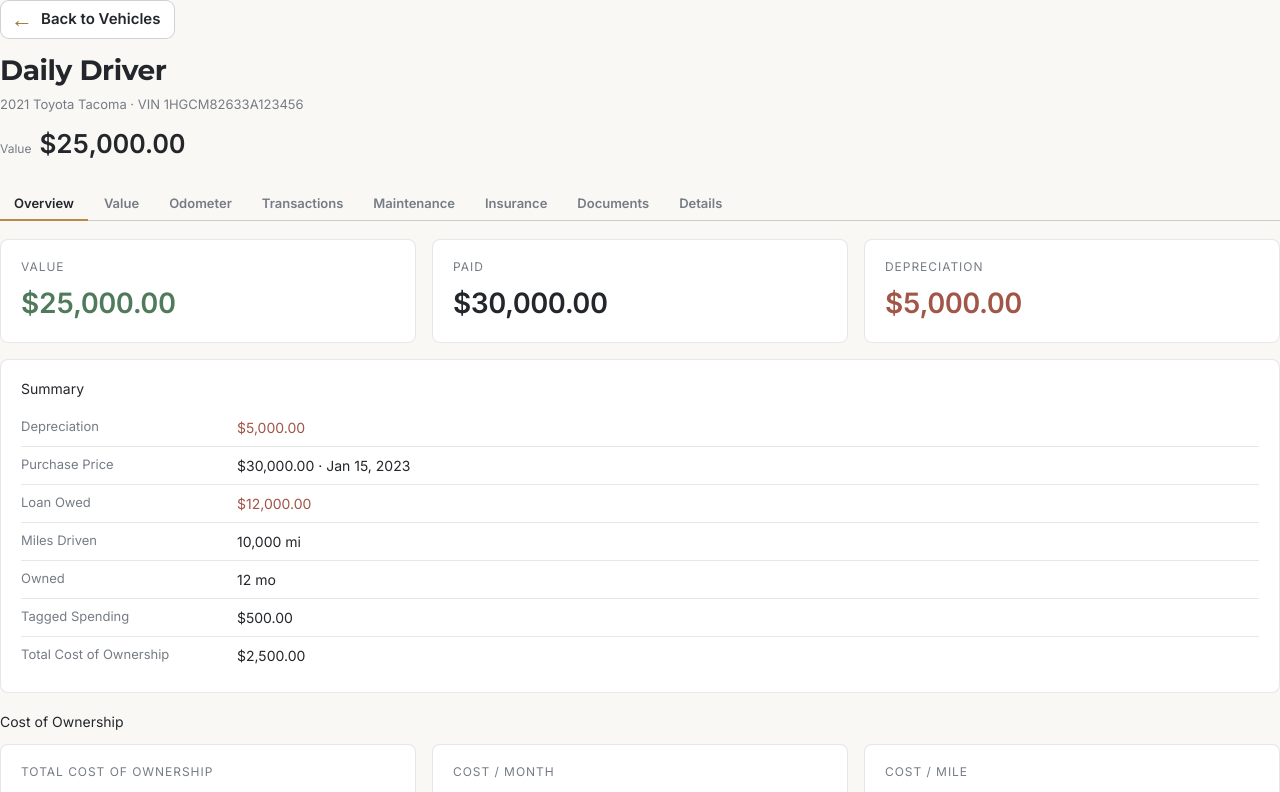
Test: VehicleDetail — transactions tab › shows the empty transactions state
This screenshot has width=1280, height=792.
Expected: the heading "Daily Driver" is shown, [0,52,166,86]
Click the button "Transactions". click: (303, 204)
box: [248,187,357,221]
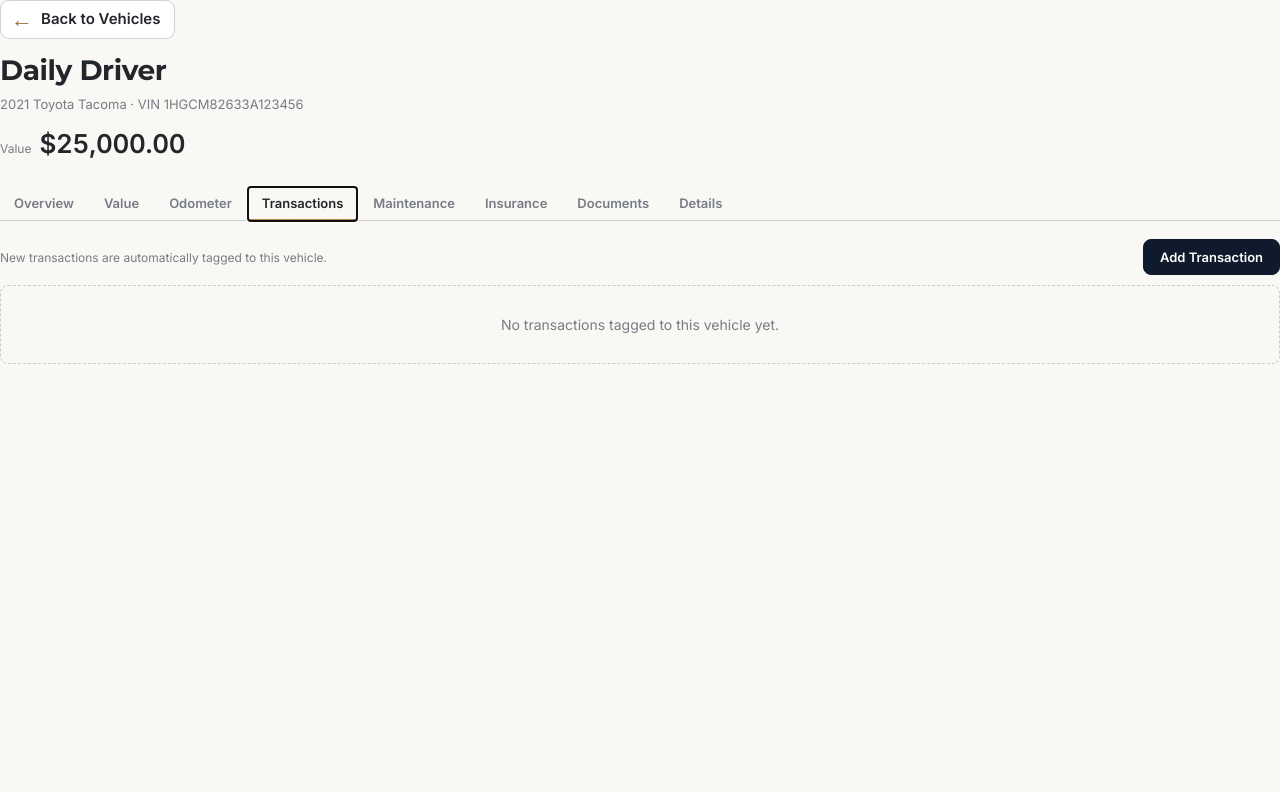
Now the text "No transactions tagged to this vehicle yet." is shown, box [0,285,1279,364]
